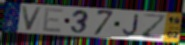3: (69, 8, 93, 35)
7: (92, 9, 115, 37)
E: (41, 7, 65, 33)
J: (121, 14, 139, 37)
V: (20, 5, 44, 31)
Z: (141, 13, 168, 40)
